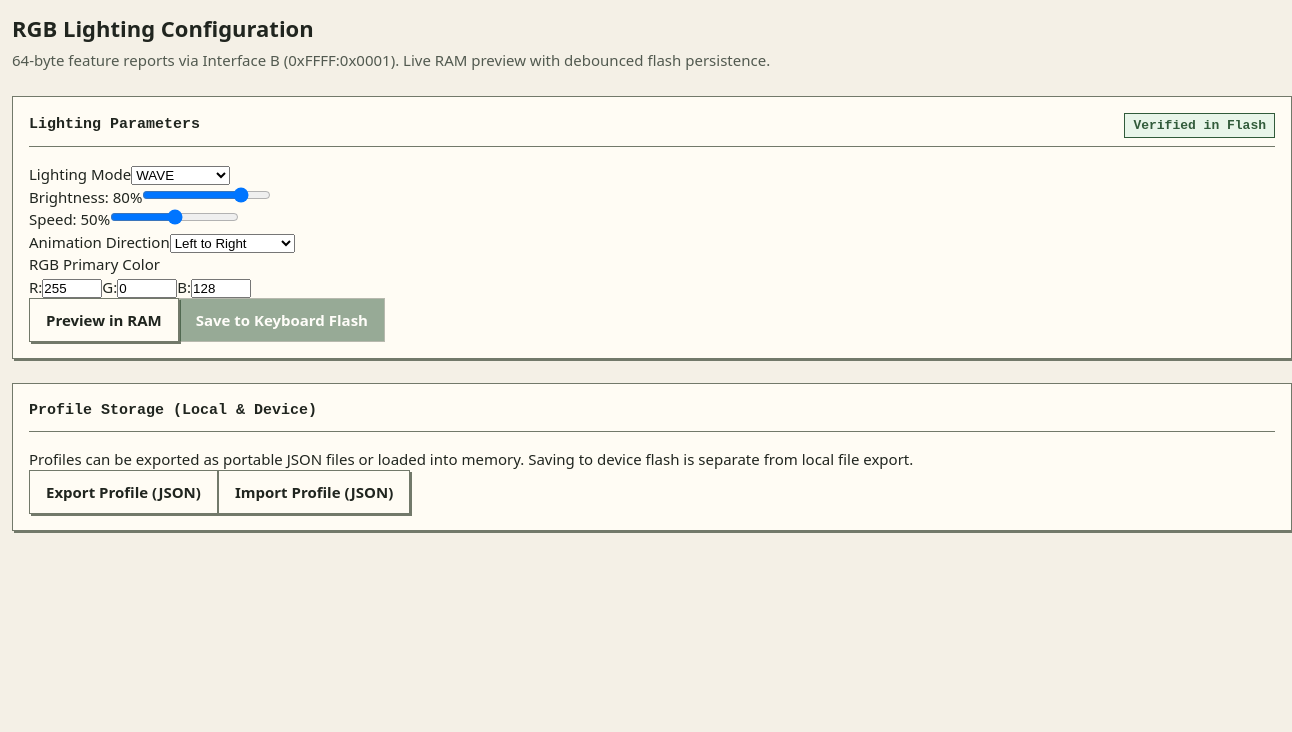
Test: LightingPage Workflow and Safety Rails › updates RAM preview and marks unsaved changes without committing to flash
Expected: the heading "RGB Lighting Configuration" is shown, [12, 13, 314, 43]
Expected: the button "Preview in RAM" is enabled, [29, 298, 179, 342]
Note: Change brightness slider
Set the slider labelled "Brightness: 80%" to "45" at coordinates (201, 194), box [142, 186, 271, 202]
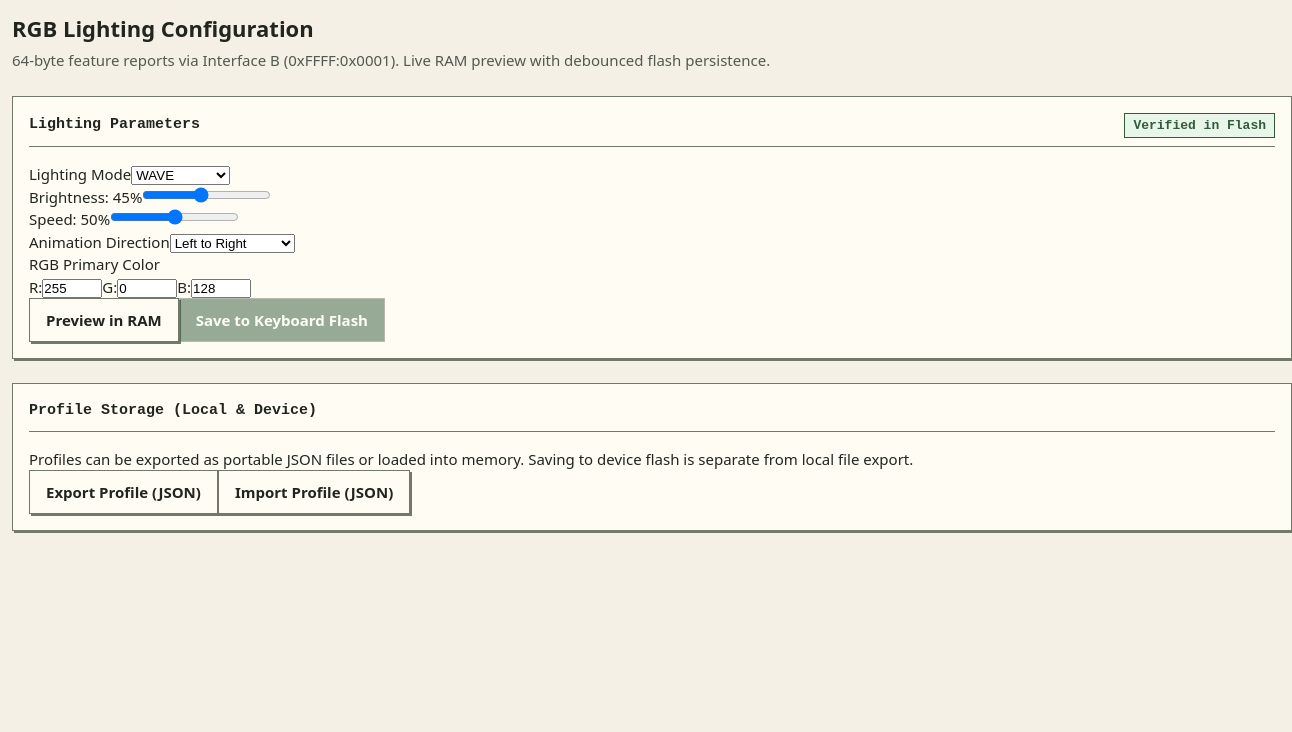
Note: Click Preview in RAM button
Click the button "Preview in RAM".
click(104, 320)  # box [29, 298, 179, 342]
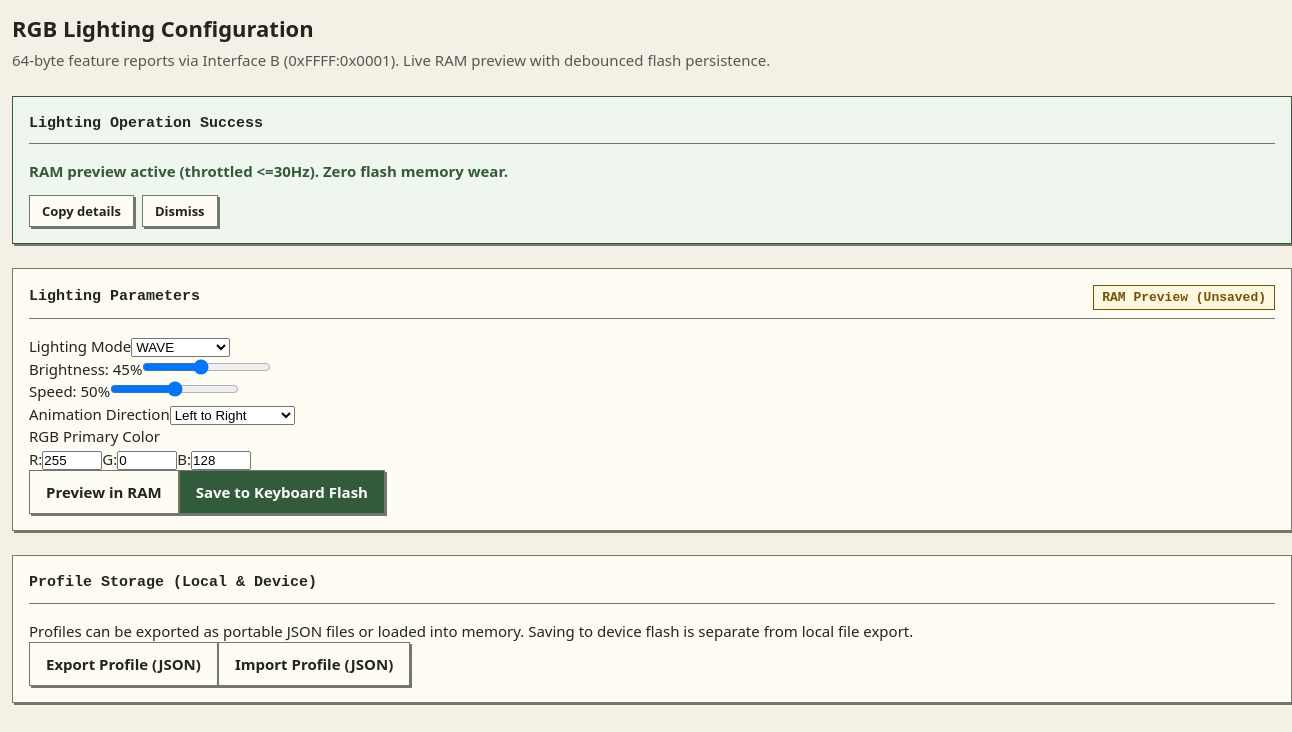
Expected: the text "RAM Preview (Unsaved)" is shown, [1093, 284, 1275, 310]
